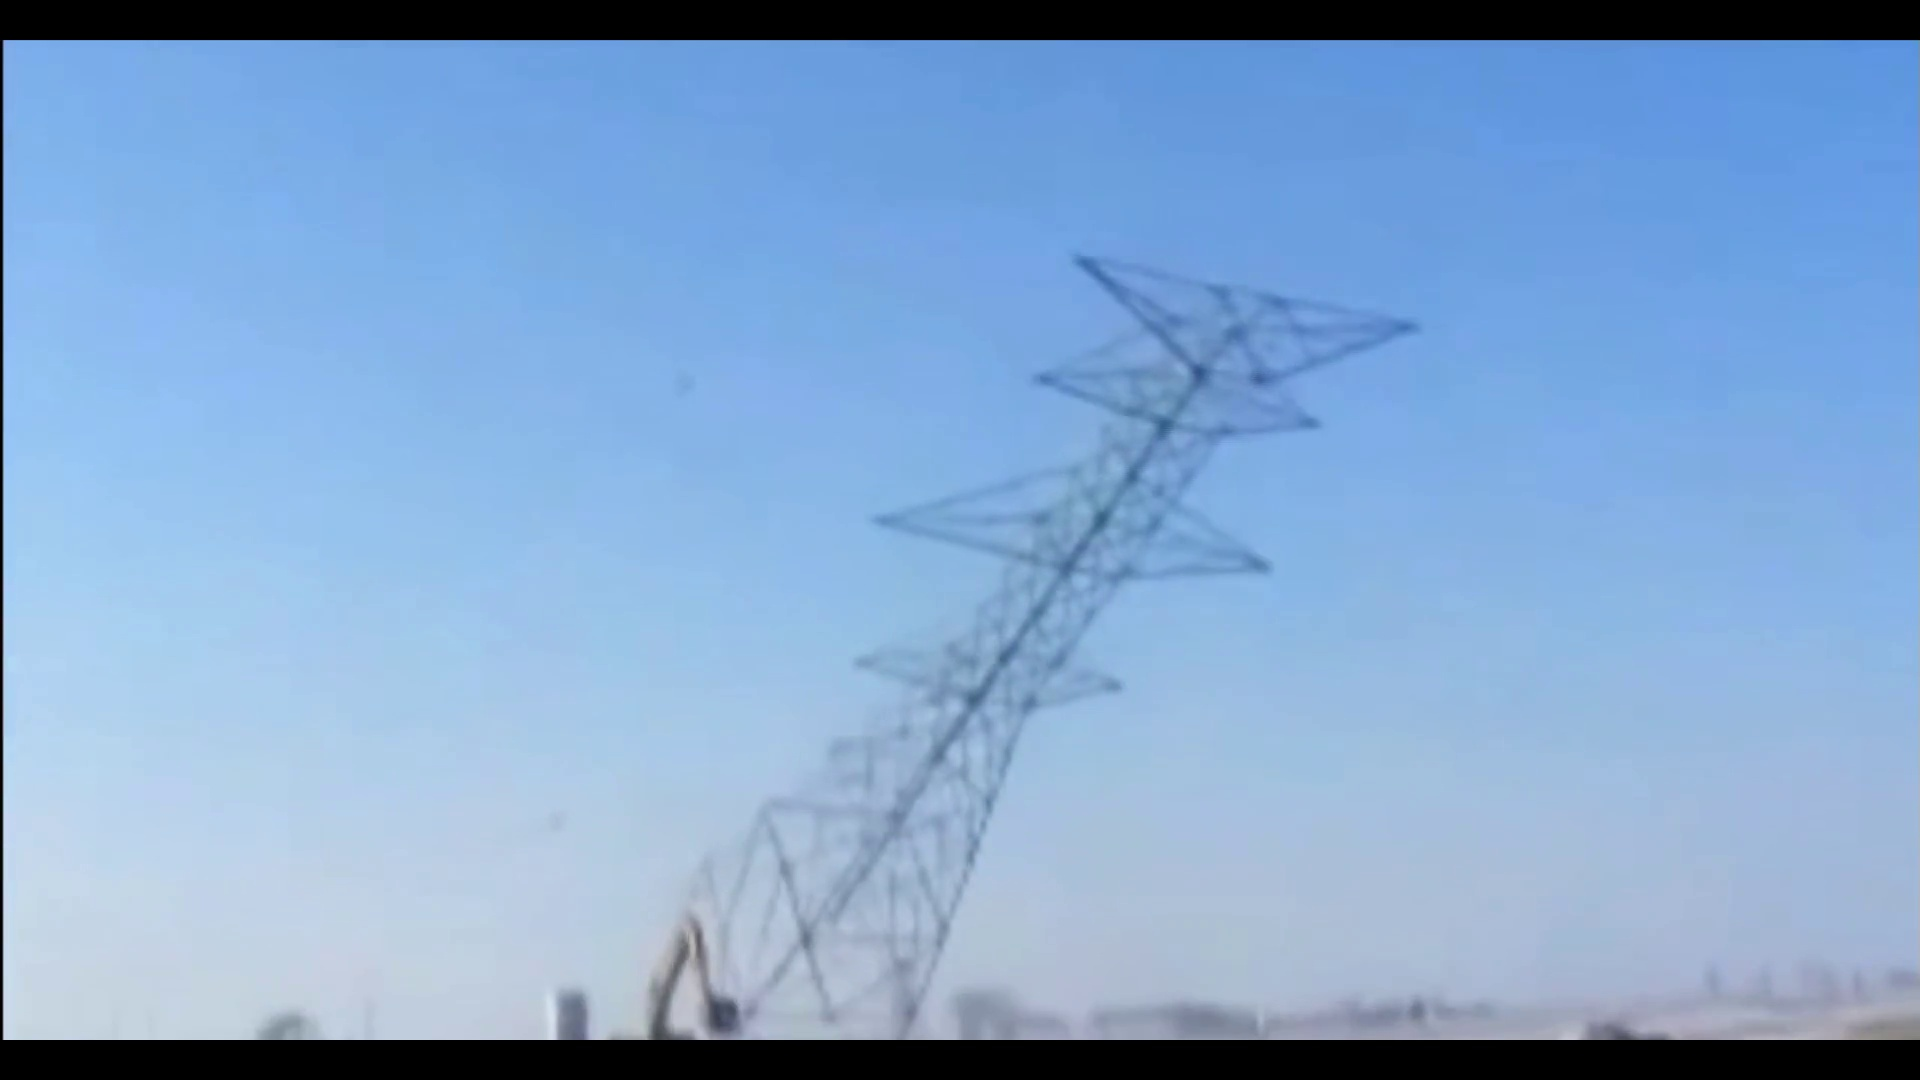tower_up: (687, 194, 1416, 1023)
